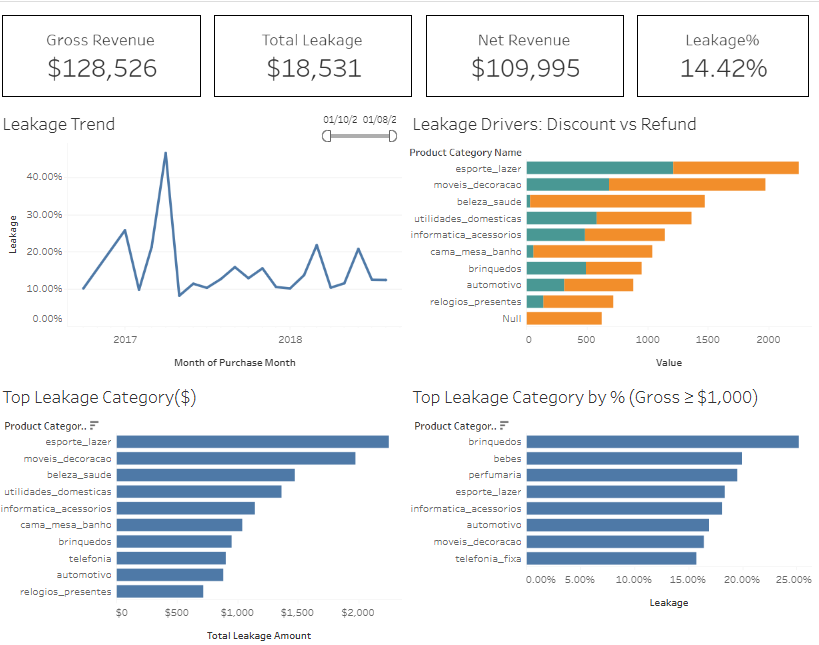

Layout of this report page (visuals, bound fields, positions):
{"tool":"tableau","page":{"name":"Dashboard 1","canvas":[1000,800],"ordinal":0},"visuals":[{"type":"worksheet","title":"Gross Revenue","mark":"Automatic","box":[8,8,254,114]},{"type":"worksheet","title":"Total Leakage","mark":"Automatic","box":[262,8,254,114]},{"type":"worksheet","title":"Net Revenue","mark":"Automatic","box":[516,8,254,114]},{"type":"worksheet","title":"Leakage%","mark":"Automatic","box":[770,8,222,114]},{"type":"worksheet","title":"Sheet 8","mark":"Line","rows":["Calculation_0001071198019945"],"cols":["purchase_month"],"box":[8,122,492,328]},{"type":"worksheet","title":"Discount vs Refund","mark":"Automatic","rows":["product_category_name"],"box":[500,122,492,328]},{"type":"filter","title":"Sheet 8","param":"[federated.1850coe1w0vxxi1f3snxy0gnllis].[none:purchase_month:qk]","box":[393,126,103,51]},{"type":"worksheet","title":"Leakage Dollars by Category","mark":"Automatic","rows":["product_category_name"],"cols":["Calculation_0001071197692263"],"box":[8,450,492,342]},{"type":"worksheet","title":"Leakage % by Category","mark":"Automatic","rows":["product_category_name"],"cols":["Calculation_0001071198019945"],"box":[500,450,492,342]}]}

Visuals, with their boxes in screenshot pixels (x1, y1, x2, y2), scaled from the page's 1000x800 canvas onto the 819x645 screenshot:
"Gross Revenue" worksheet: (x1=7, y1=6, x2=215, y2=98)
"Total Leakage" worksheet: (x1=215, y1=6, x2=423, y2=98)
"Net Revenue" worksheet: (x1=423, y1=6, x2=631, y2=98)
"Leakage%" worksheet: (x1=631, y1=6, x2=812, y2=98)
"Sheet 8" worksheet (Line marks): (x1=7, y1=98, x2=410, y2=363)
"Discount vs Refund" worksheet: (x1=410, y1=98, x2=812, y2=363)
"Sheet 8" filter: (x1=322, y1=102, x2=406, y2=143)
"Leakage Dollars by Category" worksheet: (x1=7, y1=363, x2=410, y2=639)
"Leakage % by Category" worksheet: (x1=410, y1=363, x2=812, y2=639)
